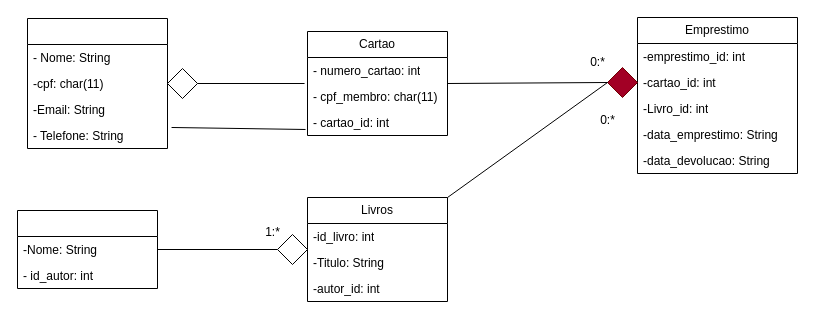
This 815x322 diagram has some shape labels left out. The box of each missing label's shape, as (x1, y1, x2, y2) in pixels:
Autores: (16, 210, 158, 288)
Membro: (26, 18, 168, 148)
